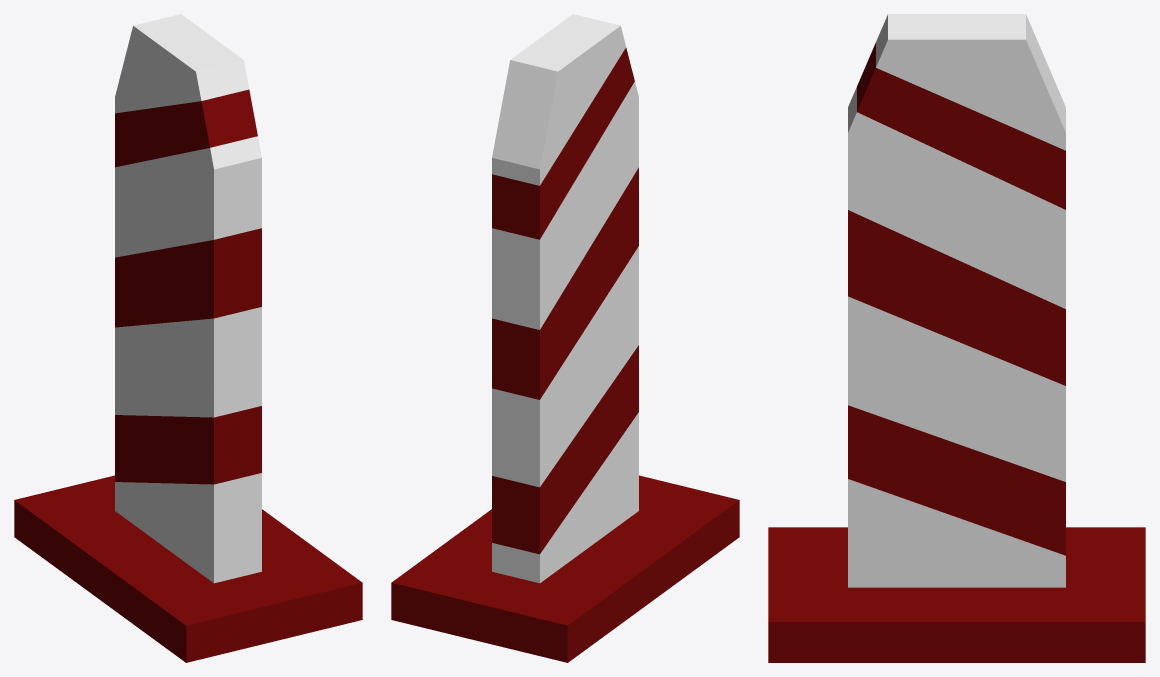
The model's file is traffic_Sign_06.fbx.
3 views of the same model, side by side, from view 1: azimuth 30°, elevation 25°; view 2: azimuth 150°, elevation 25°; view 3: azimuth 270°, elevation 25° (orthographic). The views are drawn at different scales.
Visible parts, largest first — view 1: traffic_Sign_06; view 2: traffic_Sign_06; view 3: traffic_Sign_06.
Boxes of the visible parts, <box> form: traffic_Sign_06: <box>14,14,362,662</box>; traffic_Sign_06: <box>391,14,739,662</box>; traffic_Sign_06: <box>768,14,1145,662</box>.
Size of the model in its own units: 39.35 by 114 by 66.36.
